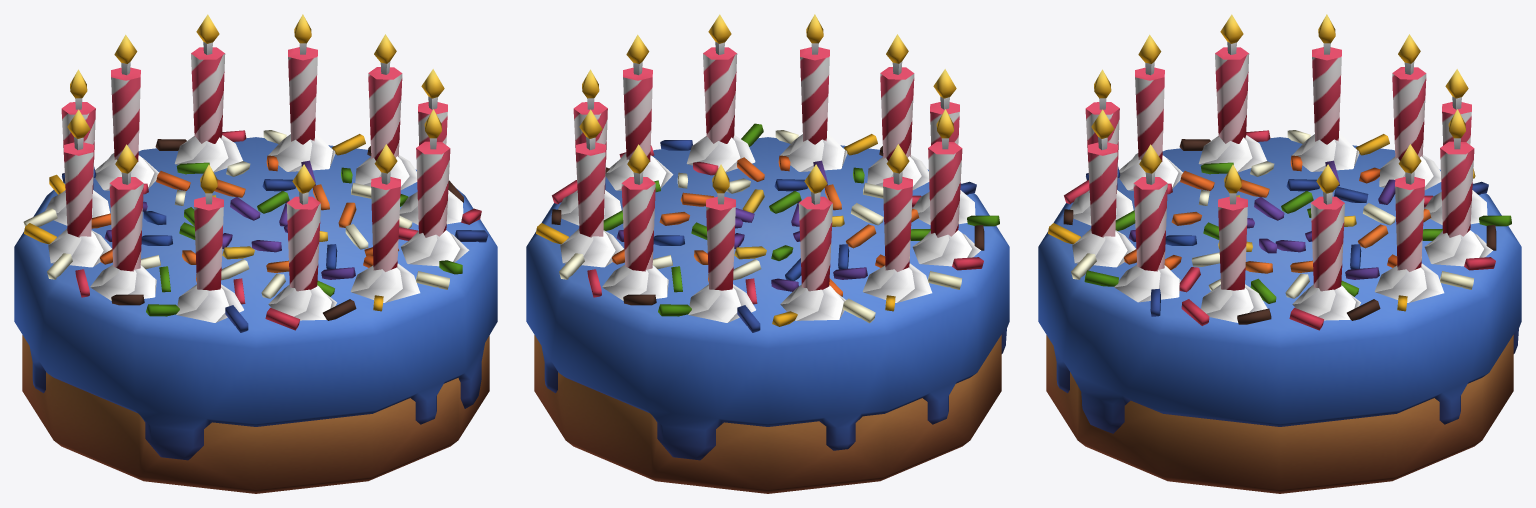
The model's file is m_BirthdayCake03.fbx.
3 views of the same model, side by side, from view 1: azimuth 30°, elevation 25°; view 2: azimuth 150°, elevation 25°; view 3: azimuth 270°, elevation 25° (orthographic).
Visible parts, largest first — view 1: m_BirthdayCake03; view 2: m_BirthdayCake03; view 3: m_BirthdayCake03.
Part boxes in pixels (box(x1,y1,x2,y2)): m_BirthdayCake03: box(14, 14, 497, 493); m_BirthdayCake03: box(526, 14, 1009, 493); m_BirthdayCake03: box(1038, 14, 1521, 493).
Size of the model in its own units: 28.97 by 20.5 by 28.97.
